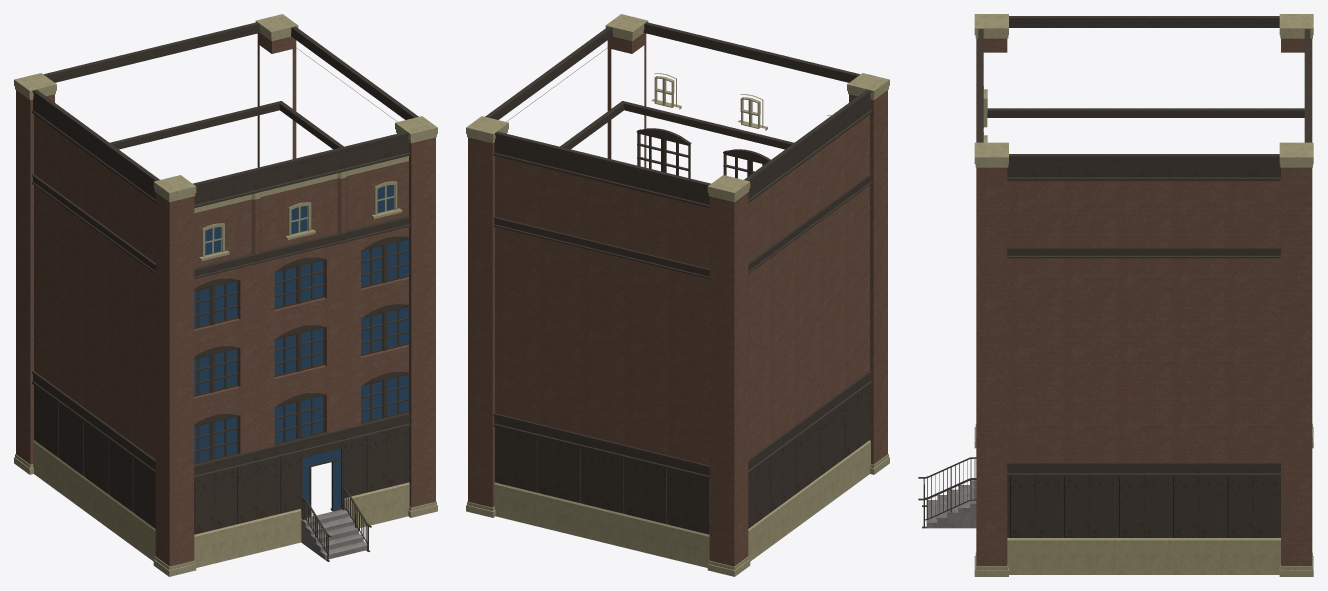
Rendered from Building_Small_1.glb.
3 views of the same model, side by side, from view 1: azimuth 30°, elevation 25°; view 2: azimuth 150°, elevation 25°; view 3: azimuth 270°, elevation 25° (orthographic). The views are drawn at different scales.
Visible parts, largest first — view 1: Cube5047, Cube5047_3, Cube5047_4, Cube5047_6, Cube5047_1; view 2: Cube5047, Cube5047_3, Cube5047_6, Cube5047_1; view 3: Cube5047, Cube5047_3, Cube5047_6, Cube5047_1, Cube5047_8.
Part boxes in pixels (x1,y1,x2,y2): Cube5047: [16, 33, 435, 566]; Cube5047_3: [32, 22, 418, 561]; Cube5047_4: [194, 185, 408, 516]; Cube5047_6: [33, 156, 409, 567]; Cube5047_1: [14, 14, 437, 576]; Cube5047: [468, 33, 887, 566]; Cube5047_3: [485, 22, 871, 534]; Cube5047_6: [494, 73, 870, 567]; Cube5047_1: [466, 14, 889, 576]; Cube5047: [976, 38, 1312, 565]; Cube5047_3: [918, 16, 1310, 537]; Cube5047_6: [983, 86, 1280, 574]; Cube5047_1: [974, 14, 1313, 576]; Cube5047_8: [926, 503, 976, 528].
Bounding box in the file's own units: 12.46 × 17.03 × 14.54.
Materials: 6 (5 with a texture image).
